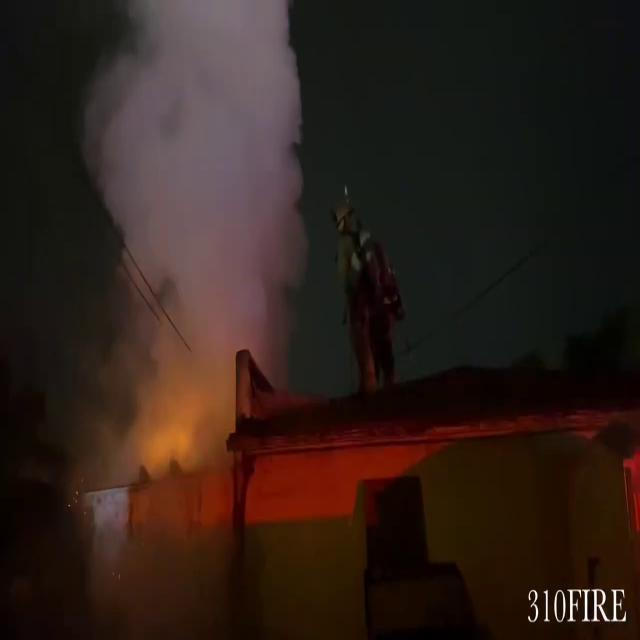Smoke: (71, 0, 337, 553)
